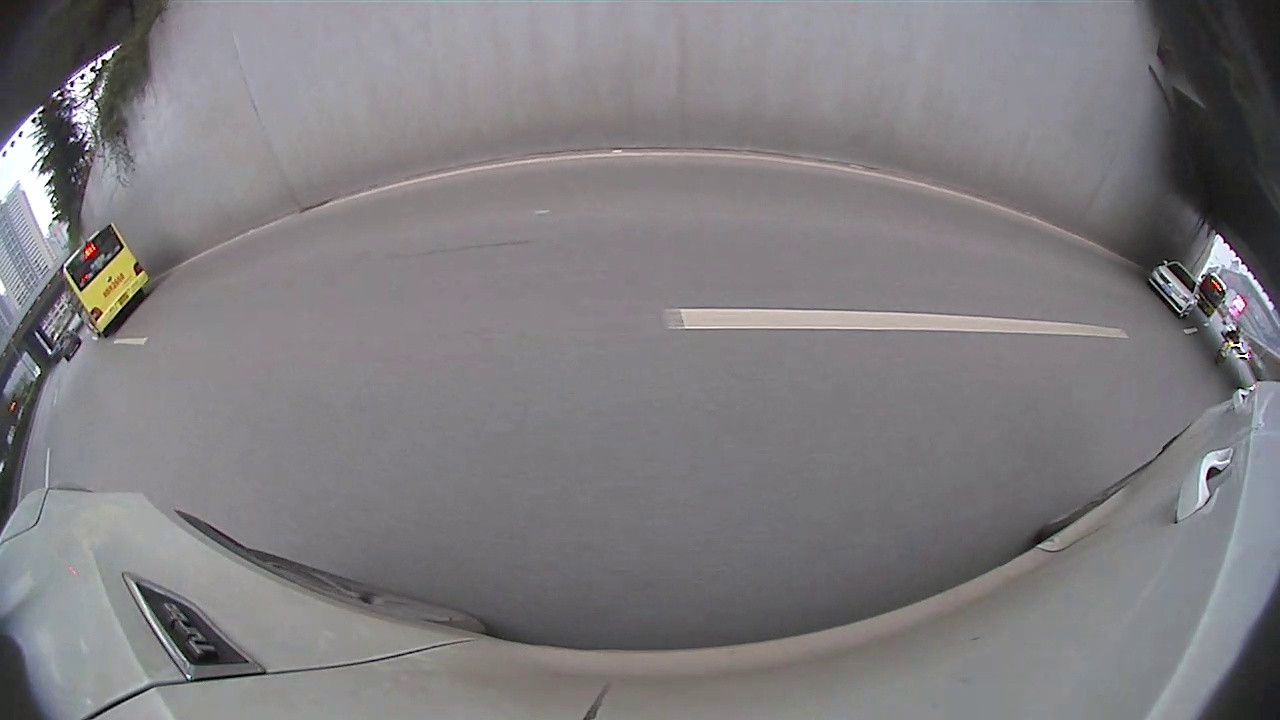bus: (902, 118, 1279, 396)
car: (0, 134, 379, 519), (815, 142, 1060, 288), (456, 143, 557, 214)
front: (312, 237, 371, 305), (811, 190, 832, 225)
rear: (1133, 272, 1189, 338), (906, 211, 952, 269), (521, 179, 536, 211)
truck: (556, 5, 850, 221)
